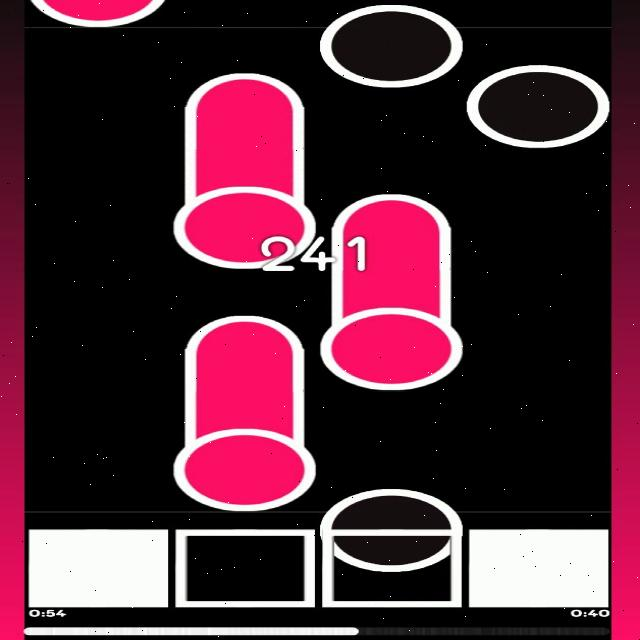end_hold: (328, 182, 458, 236), (181, 305, 308, 359), (178, 62, 314, 111)
note: (321, 1, 461, 89), (321, 484, 461, 572), (466, 64, 609, 148)
start_hold: (168, 167, 319, 274), (316, 287, 464, 394), (171, 415, 316, 515), (28, 0, 166, 27)
